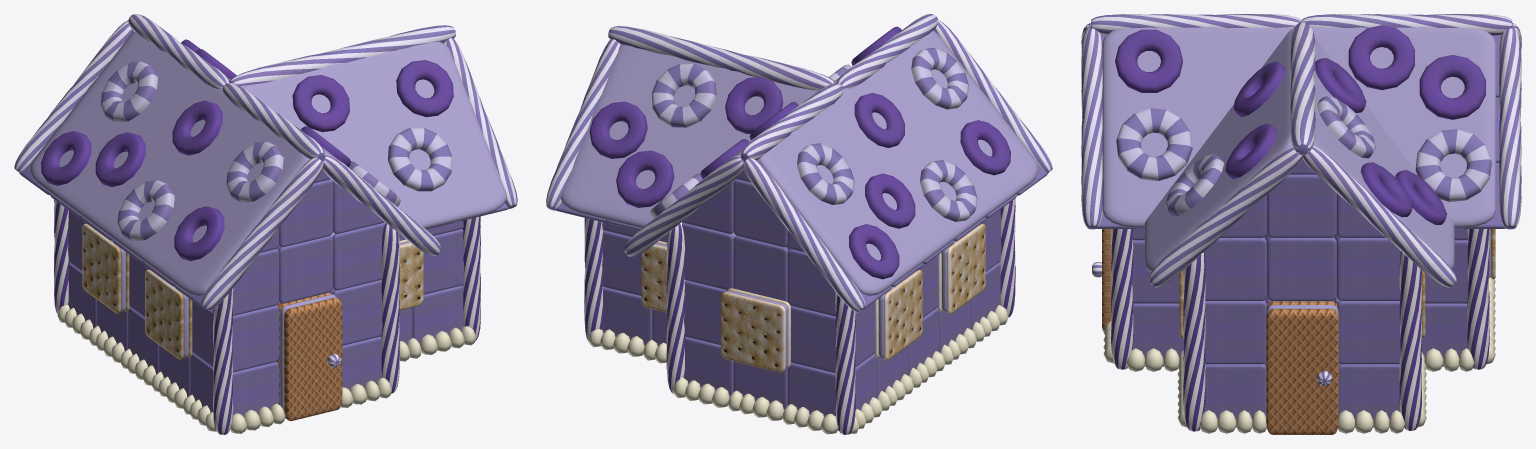
The model's file is cw_house_6.fbx.
3 renders of one model, left to right at view 1: azimuth 30°, elevation 25°; view 2: azimuth 150°, elevation 25°; view 3: azimuth 270°, elevation 25°, orthographic. The views are drawn at different scales.
Parts seen in each view (by area): view 1: cw_house_6; view 2: cw_house_6; view 3: cw_house_6.
Boxes of the visible parts, left/top/right/bottom form: cw_house_6: left=14, top=14, right=517, bottom=434; cw_house_6: left=546, top=14, right=1052, bottom=434; cw_house_6: left=1081, top=14, right=1521, bottom=434.
Bounding box in the file's own units: 693 × 532 × 682.
